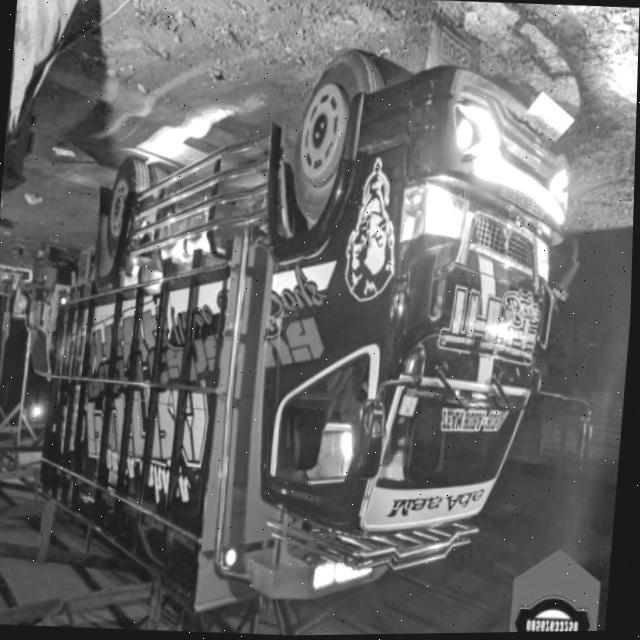truck: (31, 32, 620, 634)
